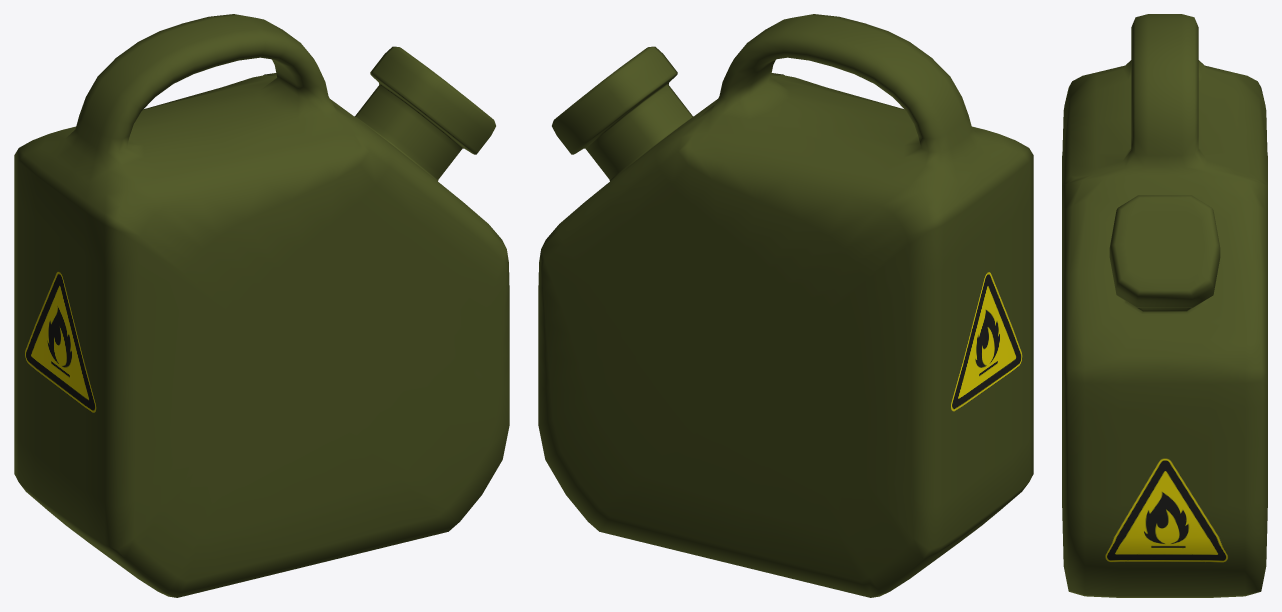
File: Tanica_Benzina.fbx
3 renders of one model, left to right at view 1: azimuth 30°, elevation 25°; view 2: azimuth 150°, elevation 25°; view 3: azimuth 270°, elevation 25°, orthographic. The views are drawn at different scales.
Visible parts, largest first — view 1: Tanica_Benzina; view 2: Tanica_Benzina; view 3: Tanica_Benzina.
Part boxes in pixels (x1=…): Tanica_Benzina: x1=14, y1=14, x2=509, y2=597; Tanica_Benzina: x1=538, y1=14, x2=1033, y2=597; Tanica_Benzina: x1=1062, y1=14, x2=1267, y2=597.
Bounding box in the file's own units: 67.42 × 79.42 × 30.84.
1 material, 1 textured.
